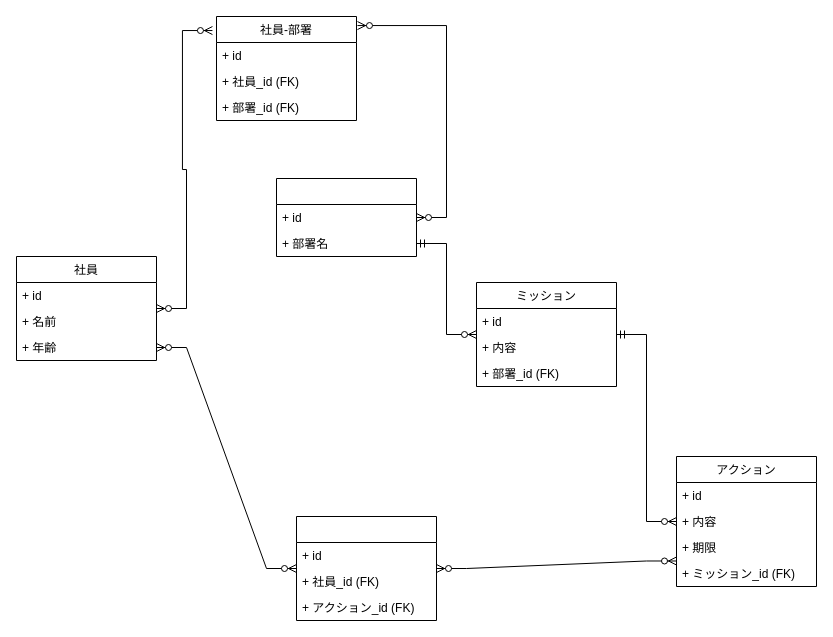
The diagram is 833 pixels wide and 637 high, and some of its shapes have lost their labels. Here are the shapes that lost their labels. From the top down, the box of each, then its label:
(276, 178, 416, 256): 部署
(296, 516, 436, 620): 社員-アクション
